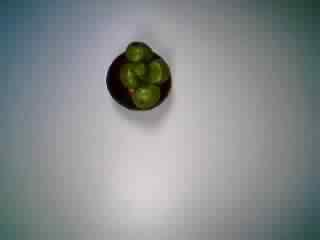mangosteen: (101, 41, 175, 113)
